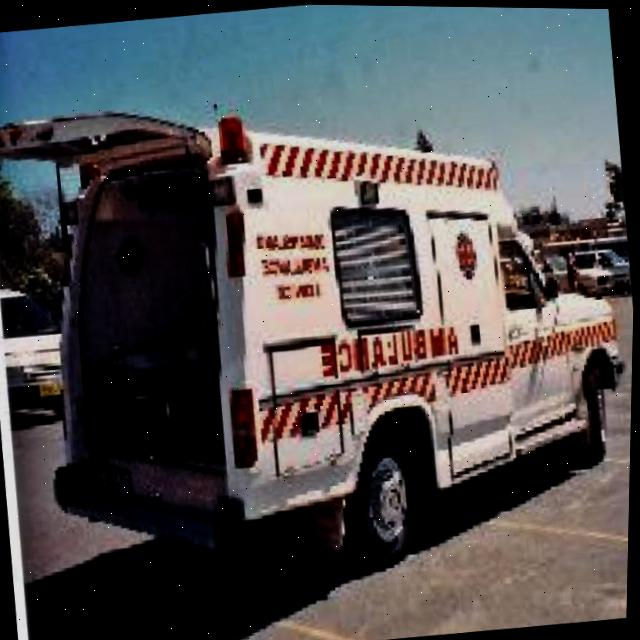emergency: (0, 52, 639, 604)
